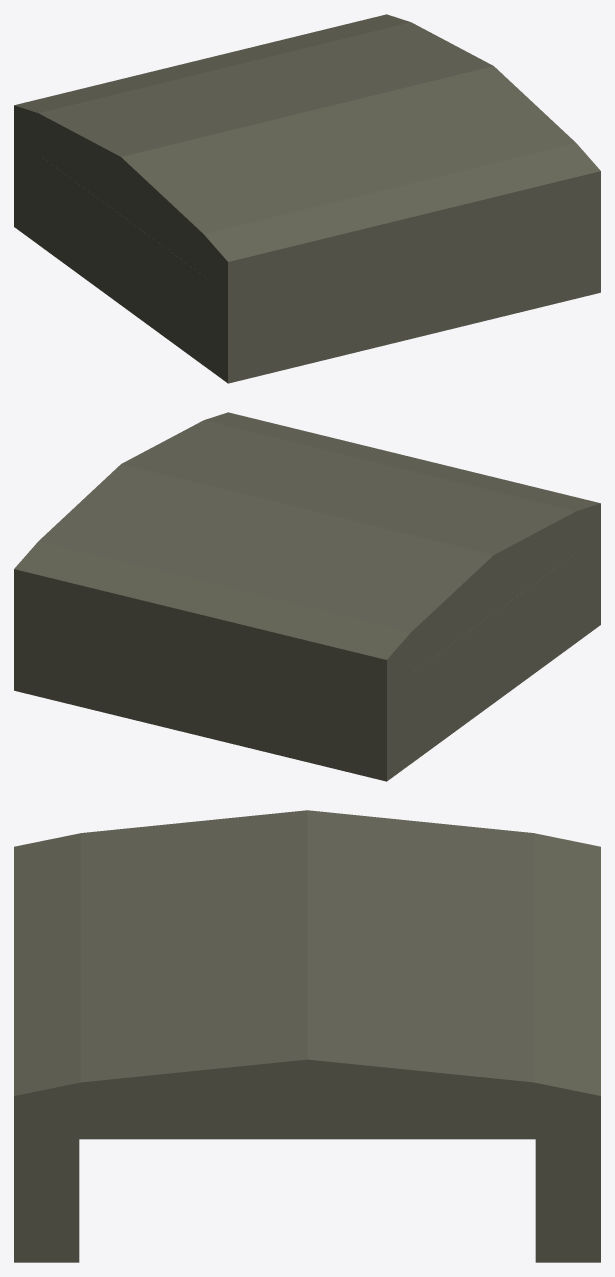
File: Hangar.fbx
The picture shows the model from 3 angles, top to bottom: view 1: azimuth 30°, elevation 25°; view 2: azimuth 150°, elevation 25°; view 3: azimuth 270°, elevation 25°; orthographic projection. The views are drawn at different scales.
Parts seen in each view (by area): view 1: Cube.002; view 2: Cube.002; view 3: Cube.002.
Boxes of the visible parts, x1,y1,x2,y2 form: Cube.002: [14, 14, 600, 383]; Cube.002: [14, 412, 600, 781]; Cube.002: [14, 810, 600, 1262].
Bounding box in the file's own units: 1740 × 661 × 1731.
